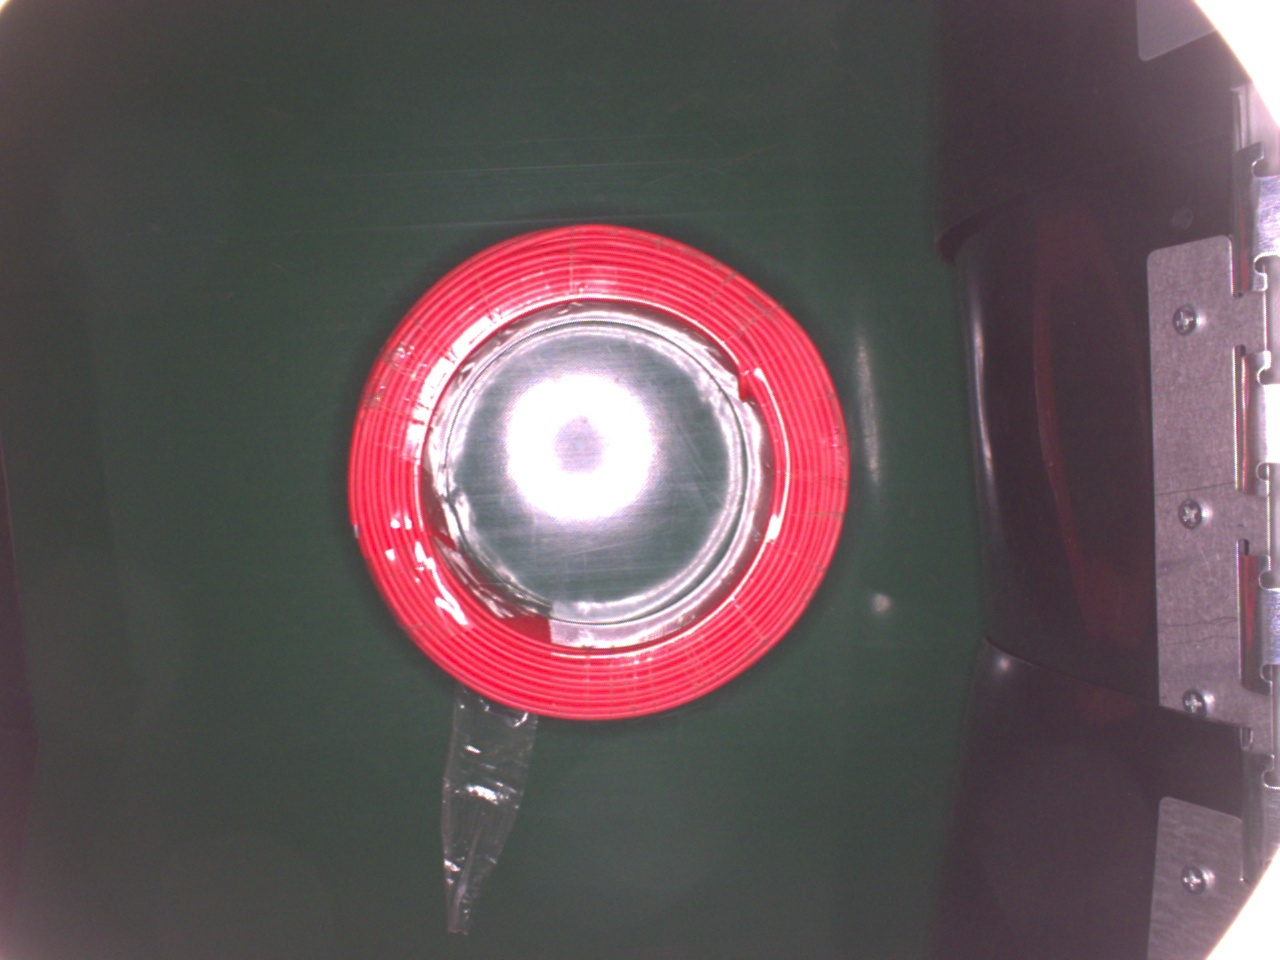red: (346, 222, 851, 724)
